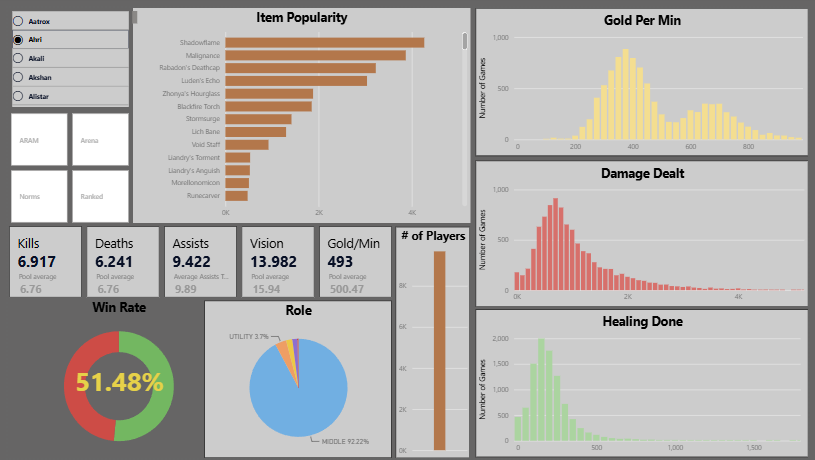

What the dashboard file says about the page in this screenshot:
{"tool":"powerbi","page":{"name":"Page 2","canvas":[1280,720],"ordinal":1},"visuals":[{"type":"clusteredBarChart","title":"Item Popularity","fields":{"Y":["CountNonNull(participant_items.itemid)"],"Category":["items.item_name"]},"box":[200,0,540,344.3],"z":1000},{"type":"clusteredColumnChart","title":"Gold Per Min","fields":{"Y":["CountNonNull(match_participants.matchid)"],"Category":["match_participants.GPM_Column (bins)"]},"box":[747.1,0,532.9,237.1],"z":3000},{"type":"clusteredColumnChart","title":"Healing Done","fields":{"Y":["CountNonNull(match_participants.matchid)"],"Category":["match_participants.HPM_Column (bins)"]},"box":[747.1,482.9,532.9,237.1],"z":4000},{"type":"clusteredColumnChart","title":"Damage Dealt","fields":{"Y":["CountNonNull(match_participants.matchid)"],"Category":["match_participants.DPM_Column (bins)"]},"box":[747.1,244.3,532.9,234.3],"z":5000},{"type":"cardVisual","fields":{"Data":["Avg(match_participants.kills)","Avg(match_participants.Deaths)","Avg(match_participants.Assists)","Avg(match_participants.Vision_Score)","Avg(match_participants.GPM_Column)"]},"box":[1.4,344.3,612.9,124.3],"z":6000},{"type":"cardVisual","fields":{"Data":["match_participants.Average Kills Tooltip (Ignoring Player)","match_participants.Average Deaths Tooltip (Ignoring Player)","match_participants.Average Assists Tooltip (Ignoring Champ)","match_participants.Average Vision Score Tooltip (Ignoring Player)","match_participants.Average GPM Tooltip (Ignoring Player)"]},"box":[0,406.4,624.5,47.3],"z":7000},{"type":"cardVisual","fields":{"Data":["match_participants.Average Kills Tooltip (Ignoring Champ)","match_participants.Average Deaths Tooltip (Ignoring Champ)","match_participants.Average Assists Tooltip (Ignoring Champ)","match_participants.Average Vision Tooltip (Ignoring Champ)","match_participants.Average GPM Tooltip (Ignoring Champ)"]},"box":[1.2,420,625,47.5],"z":8000},{"type":"donutChart","title":"Win Rate","fields":{"Category":["match_participants.Win"],"Y":["CountNonNull(match_participants.Win)"]},"box":[1.2,463.8,351.2,256.2],"z":9000},{"type":"cardVisual","fields":{"Data":["Avg(match_participants.Win)"]},"box":[87.1,537.1,181.4,107.1],"z":10000},{"type":"pieChart","title":"Role","fields":{"Category":["match_participants.participant_role"],"Y":["CountNonNull(match_participants.participantid)"]},"box":[313.8,468.1,300,251.9],"z":10001},{"type":"clusteredColumnChart","title":"# of Players","fields":{"Y":["Count(match_participants.participantid)"]},"box":[620,350,119,370],"z":10002},{"type":"advancedSlicerVisual","fields":{"Values":["queue_ids.Gamemodes"]},"box":[0,164.3,198.6,185.7],"z":10003},{"type":"listSlicer","fields":{"Values":["champions.champion_name"]},"box":[1,0,210,164],"z":10004}]}

Visuals, with their boxes in screenshot pixels (x1, y1, x2, y2), scaled from the page's 1280x720 canvas onto the 815x460 screenshot:
"Item Popularity" clusteredBarChart: BBox(127, 0, 471, 220)
"Gold Per Min" clusteredColumnChart: BBox(476, 0, 814, 151)
"Healing Done" clusteredColumnChart: BBox(476, 309, 814, 459)
"Damage Dealt" clusteredColumnChart: BBox(476, 156, 814, 306)
cardVisual - Avg(match_participants.kills) x Avg(match_participants.Deaths): BBox(1, 220, 391, 299)
cardVisual - match_participants.Average Kills Tooltip (Ignoring Player) x match_participants.Average Deaths Tooltip (Ignoring Player): BBox(0, 260, 398, 290)
cardVisual - match_participants.Average Kills Tooltip (Ignoring Champ) x match_participants.Average Deaths Tooltip (Ignoring Champ): BBox(1, 268, 399, 299)
"Win Rate" donutChart: BBox(1, 296, 224, 459)
cardVisual - Avg(match_participants.Win): BBox(55, 343, 171, 412)
"Role" pieChart: BBox(200, 299, 391, 459)
"# of Players" clusteredColumnChart: BBox(395, 224, 471, 459)
advancedSlicerVisual - queue_ids.Gamemodes: BBox(0, 105, 126, 224)
listSlicer - champions.champion_name: BBox(1, 0, 134, 105)
